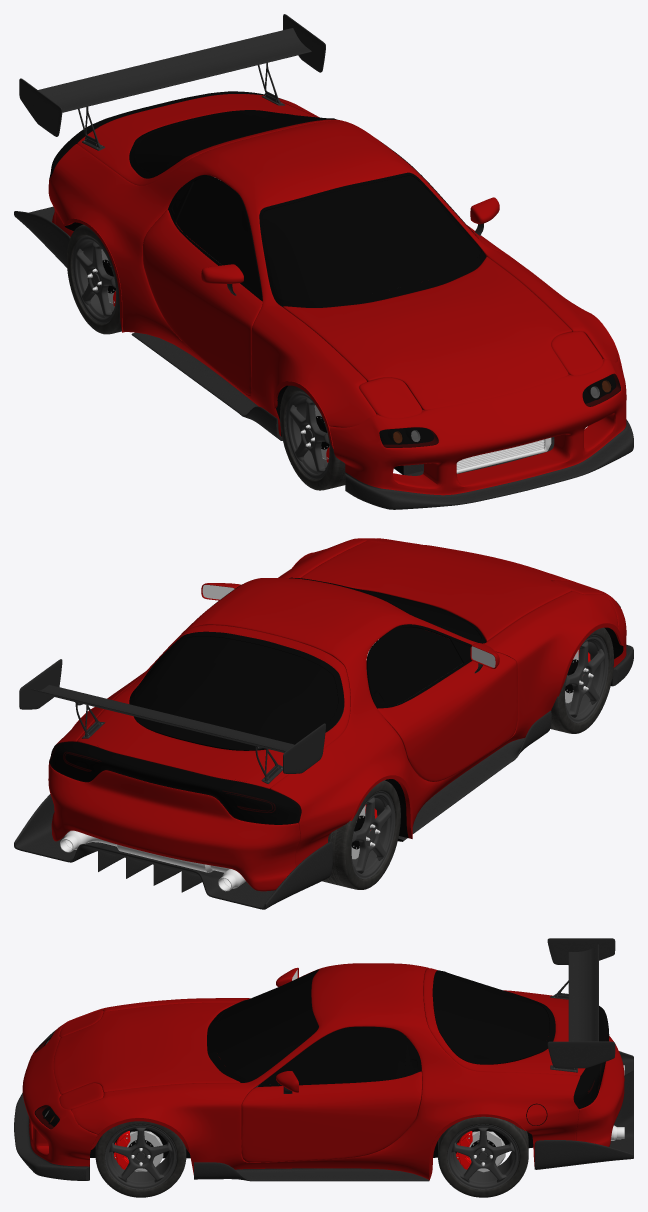
The picture shows the model from 3 angles, top to bottom: view 1: azimuth 30°, elevation 25°; view 2: azimuth 150°, elevation 25°; view 3: azimuth 270°, elevation 25°; orthographic projection. The views are drawn at different scales.
Parts seen in each view (by area): view 1: Car_1, Wing_9, Rims F_5, Rims R_6, Tyres F_7, Tyres R_8, Cube.003_2; view 2: Car_1, Wing_9, Rims R_6, Tyres R_8, Rims F_5, Tyres F_7; view 3: Car_1, Wing_9, Rims R_6, Rims F_5, Tyres R_8, Tyres F_7, Disk F_3, Disk R_4.
Boxes of the visible parts, box(x1,y1,x2,y2) form: Car_1: box(14, 91, 633, 509); Wing_9: box(19, 14, 325, 150); Rims F_5: box(285, 391, 329, 479); Rims R_6: box(72, 235, 116, 323); Tyres F_7: box(280, 385, 345, 490); Tyres R_8: box(67, 224, 121, 334); Cube.003_2: box(456, 437, 551, 473); Car_1: box(14, 538, 633, 909); Wing_9: box(19, 659, 325, 783); Rims R_6: box(351, 791, 395, 879); Tyres R_8: box(322, 780, 400, 889); Rims F_5: box(564, 635, 608, 723); Tyres F_7: box(550, 627, 613, 733); Car_1: box(14, 963, 633, 1181); Wing_9: box(547, 938, 615, 1072); Rims R_6: box(447, 1124, 519, 1189); Rims F_5: box(105, 1124, 176, 1189); Tyres R_8: box(438, 1116, 528, 1197); Tyres F_7: box(95, 1121, 186, 1197); Disk F_3: box(114, 1130, 163, 1171); Disk R_4: box(456, 1131, 505, 1172).
Size of the model in its own units: 5.14 by 3.29 by 11.66.
26 materials, 3 textured.
